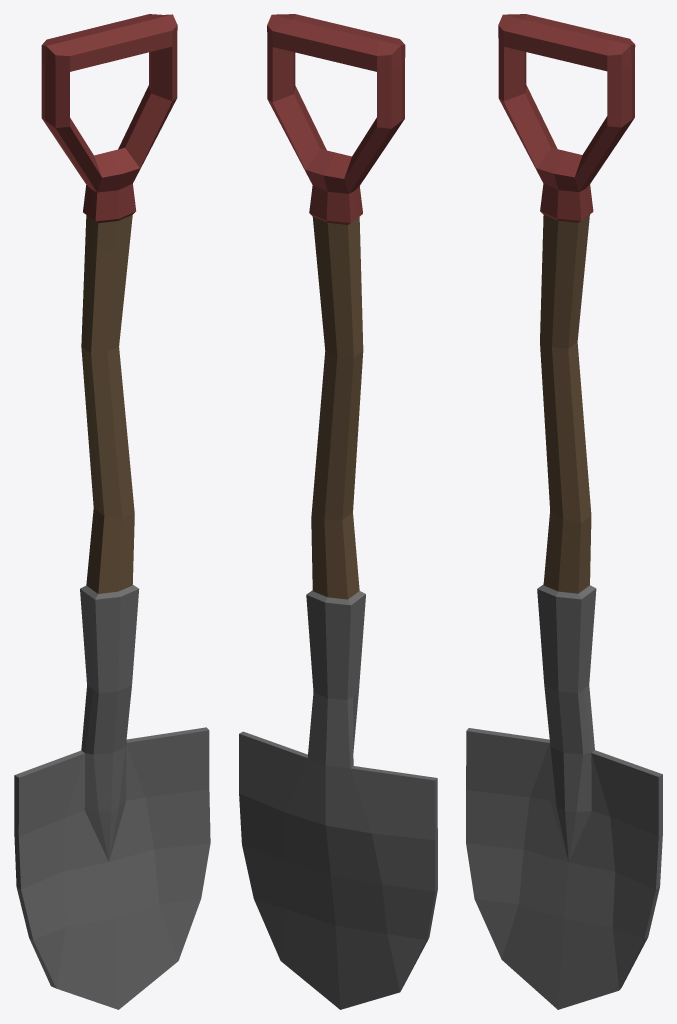
Rendered from shovel.glb.
3 renders of one model, left to right at view 1: azimuth 30°, elevation 25°; view 2: azimuth 150°, elevation 25°; view 3: azimuth 330°, elevation 25°, orthographic.
Parts seen in each view (by area): view 1: Shovel; view 2: Shovel; view 3: Shovel.
Boxes of the visible parts, x1,y1,x2,y2 form: Shovel: (14,14,210,1009); Shovel: (239,14,437,1009); Shovel: (466,14,662,1009).
Bounding box in the file's own units: 0.8046 × 3.87 × 0.1837.
